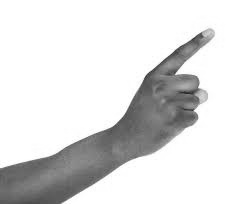pointing_gesture: (107, 28, 216, 164)
